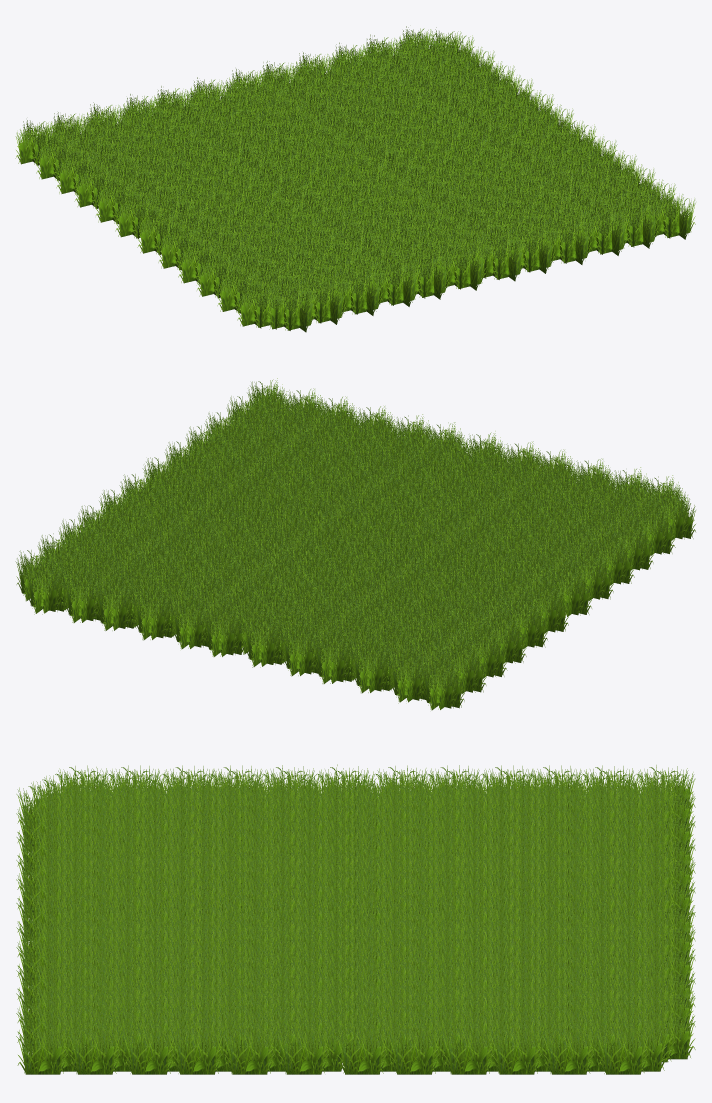
Rendered from field-tall-green.glb.
3 views of the same model, one above another, from view 1: azimuth 30°, elevation 25°; view 2: azimuth 150°, elevation 25°; view 3: azimuth 270°, elevation 25° (orthographic). The views are drawn at different scales.
Parts seen in each view (by area): view 1: 78f67a44e13965ae3008bbb284401925.000_78f67a44e13965ae3008bbb; view 2: 78f67a44e13965ae3008bbb284401925.000_78f67a44e13965ae3008bbb; view 3: 78f67a44e13965ae3008bbb284401925.000_78f67a44e13965ae3008bbb.
Boxes of the visible parts, x1,y1,x2,y2 form: 78f67a44e13965ae3008bbb284401925.000_78f67a44e13965ae3008bbb: (15, 26, 695, 332); 78f67a44e13965ae3008bbb284401925.000_78f67a44e13965ae3008bbb: (15, 378, 695, 710); 78f67a44e13965ae3008bbb284401925.000_78f67a44e13965ae3008bbb: (16, 764, 695, 1074).
Size of the model in its own units: 16.35 by 1.58 by 16.56.
1 material, 1 textured.
